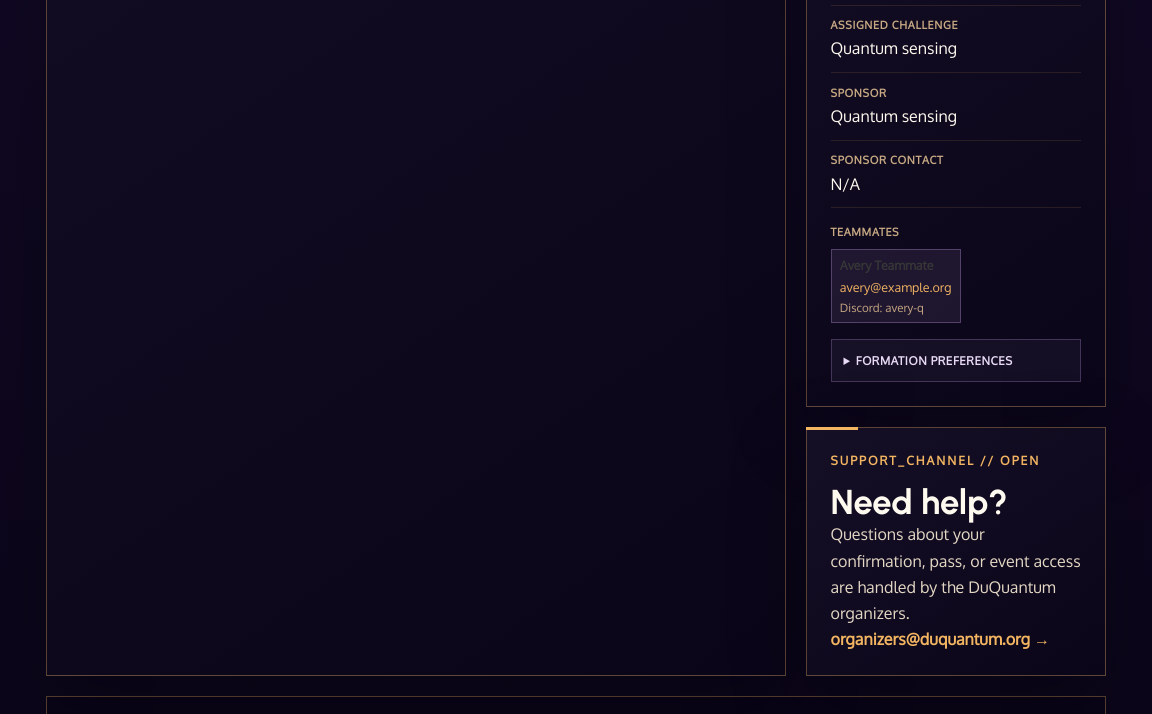
Test: DuQuantumPortalPage › shows only the signed-in participant's team with preferences labeled separately
The width and height of the screenshot is (1152, 714).
(page scrolled)
Expected: the text "Quantum sensing" is shown 2 times, [830,38,957,58]; [830,106,957,126]
Expected: the text "Avery Teammate" is shown, [840,257,934,273]
Click the heading "Formation preferences" at coordinates (934, 360), box [856,353,1013,368]
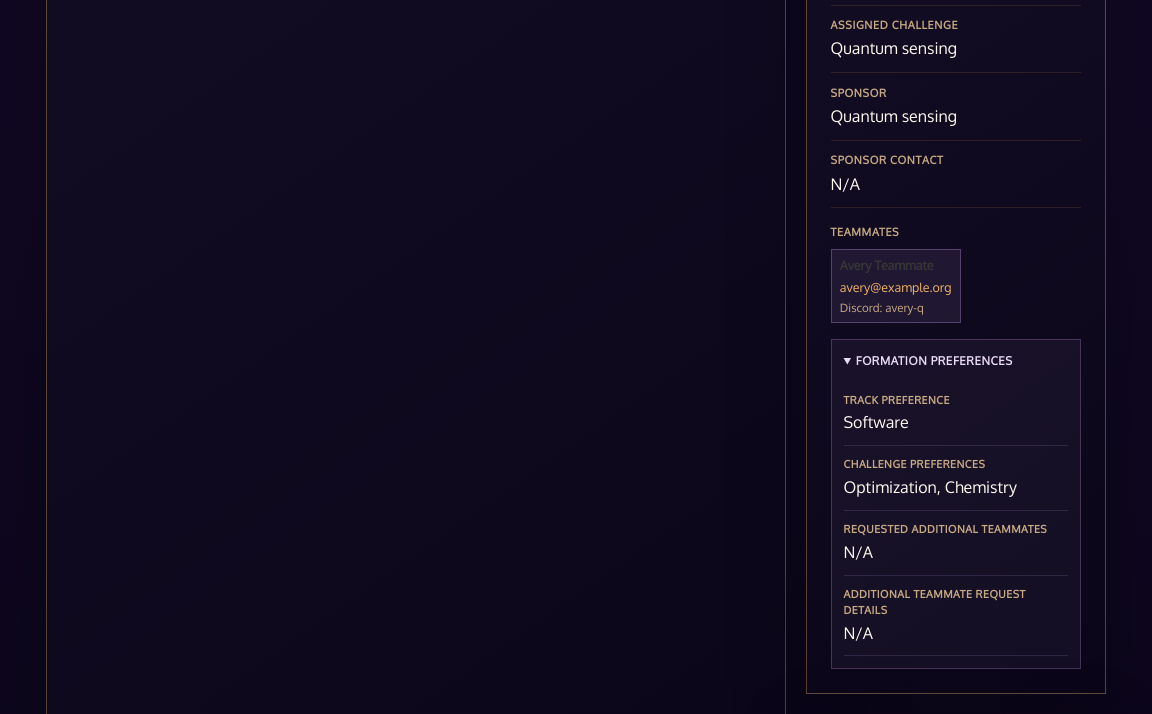
Expected: the text "Software" is shown, [844,412,909,432]
Expected: the text "Optimization, Chemistry" is shown, [844,477,1017,497]
Expected: the text "N/A" below "Requested additional teammates" is shown, [844,542,873,562]
